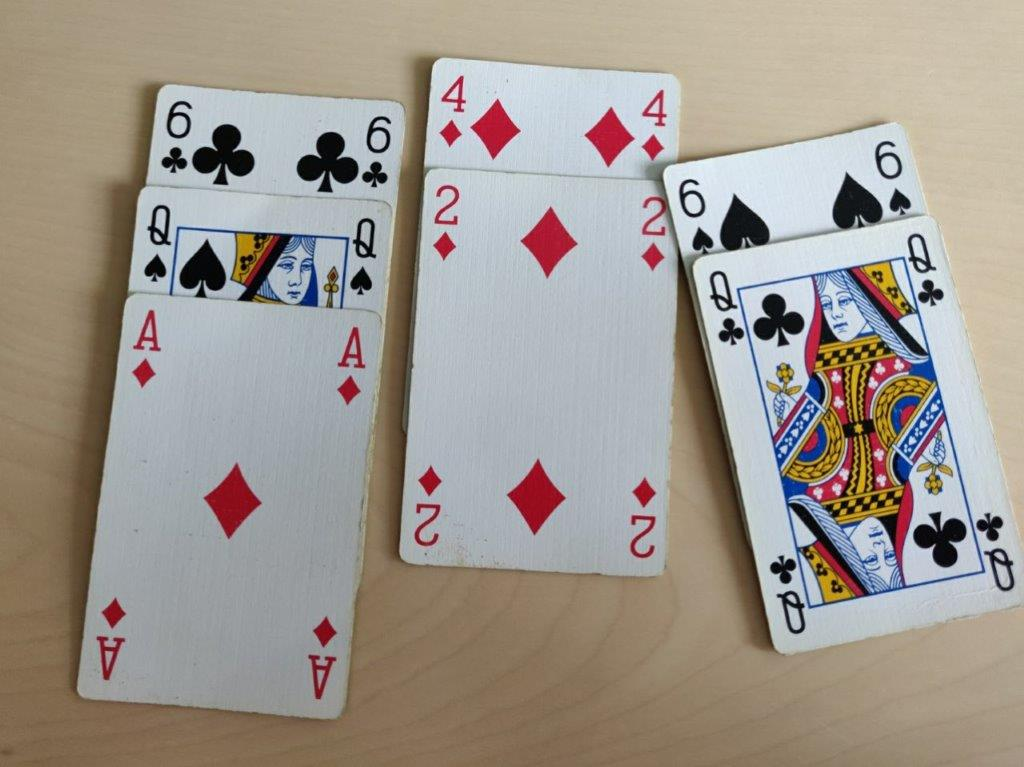2D: (426, 180, 466, 266), (631, 189, 671, 275)
4D: (432, 60, 472, 157), (635, 74, 675, 171)
6C: (156, 94, 196, 183), (359, 106, 399, 195)
6S: (676, 166, 719, 259), (876, 133, 919, 226)
AD: (125, 305, 166, 392), (332, 322, 373, 409)
QC: (695, 269, 748, 350), (898, 229, 951, 310)
QS: (129, 196, 177, 289), (338, 211, 386, 304)
